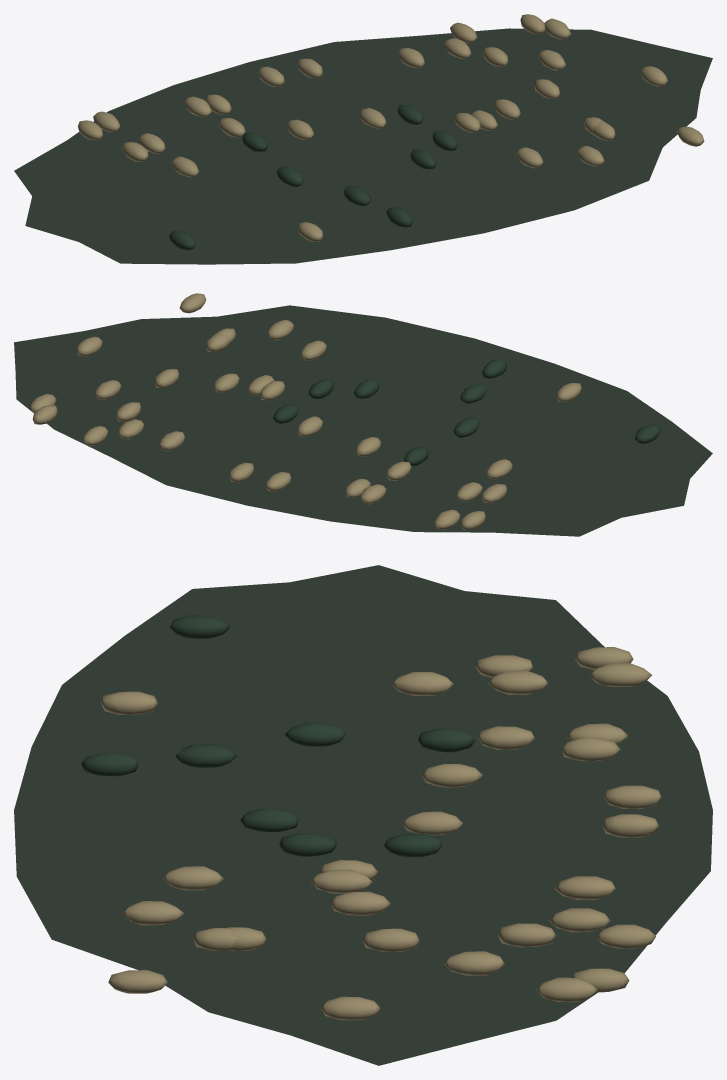
File: cache-spilled-grain.glb
The picture shows the model from 3 angles, top to bottom: view 1: azimuth 30°, elevation 25°; view 2: azimuth 150°, elevation 25°; view 3: azimuth 270°, elevation 25°; orthographic projection. The views are drawn at different scales.
Visible parts, largest first — view 1: Surface; view 2: Surface; view 3: Surface.
Part boxes in pixels (x1=…): Surface: x1=14, y1=14, x2=712, y2=264; Surface: x1=14, y1=293, x2=712, y2=536; Surface: x1=14, y1=565, x2=712, y2=1065.
Bounding box in the file's own units: 0.9093 × 0.0193 × 0.5363.
